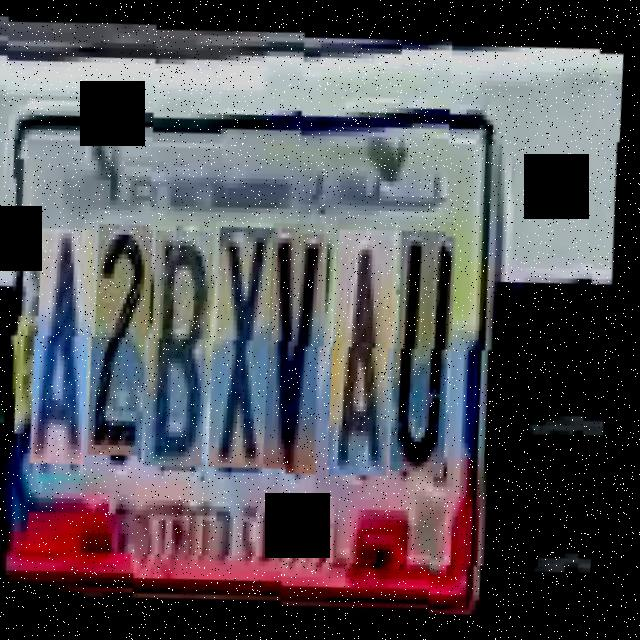2: (82, 219, 167, 456)
A: (324, 210, 413, 462), (25, 224, 110, 466)
B: (139, 220, 227, 462)
U: (385, 211, 470, 458)
V: (260, 215, 343, 461)
X: (203, 215, 291, 462)
